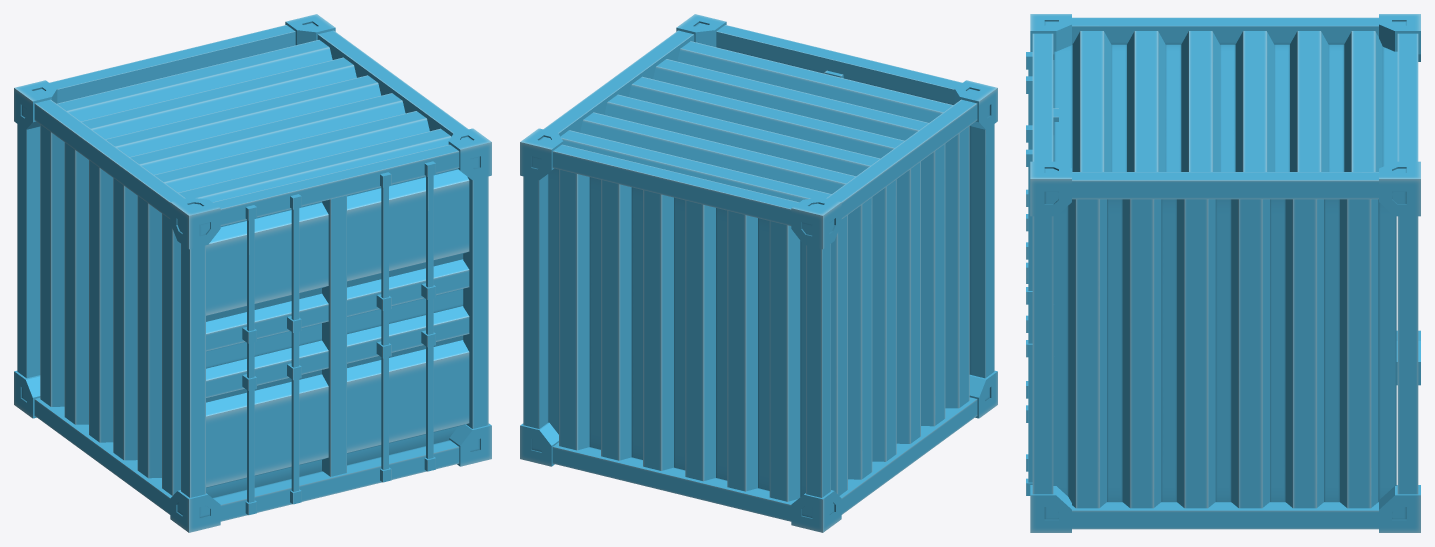
Rendered from shipping_container.glb.
3 renders of one model, left to right at view 1: azimuth 30°, elevation 25°; view 2: azimuth 150°, elevation 25°; view 3: azimuth 270°, elevation 25°, orthographic. The views are drawn at different scales.
Parts seen in each view (by area): view 1: container; view 2: container; view 3: container.
Part boxes in pixels (x1,y1,x2,y2): container: (14, 14, 491, 532); container: (520, 14, 997, 532); container: (1026, 14, 1420, 532).
Size of the model in its own units: 2.03 by 2.03 by 2.05.
Materials: 1 (1 with a texture image).
